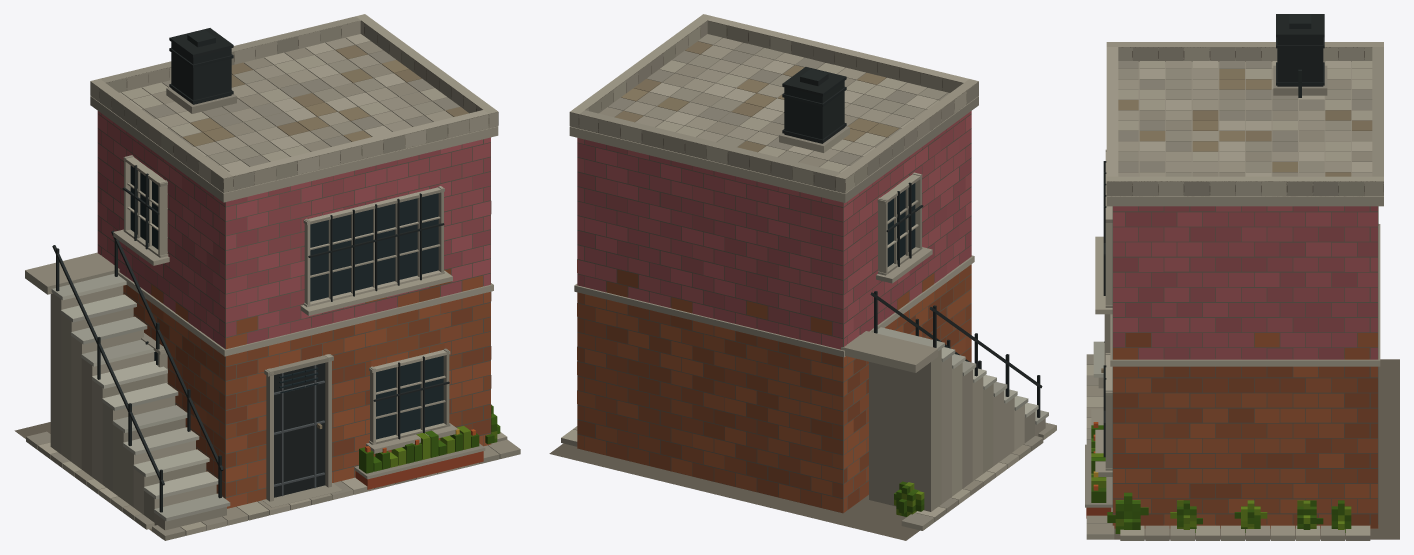
The model's file is SM_Mapa_071.fbx.
3 renders of one model, left to right at view 1: azimuth 30°, elevation 25°; view 2: azimuth 150°, elevation 25°; view 3: azimuth 270°, elevation 25°, orthographic. The views are drawn at different scales.
Visible parts, largest first — view 1: SM_Mapa_071; view 2: SM_Mapa_071; view 3: SM_Mapa_071.
Part boxes in pixels (x1,y1,x2,y2): SM_Mapa_071: (14,14,520,540); SM_Mapa_071: (549,14,1056,540); SM_Mapa_071: (1085,14,1399,540).
Bounding box in the file's own units: 8 × 5.82 × 8.38.
